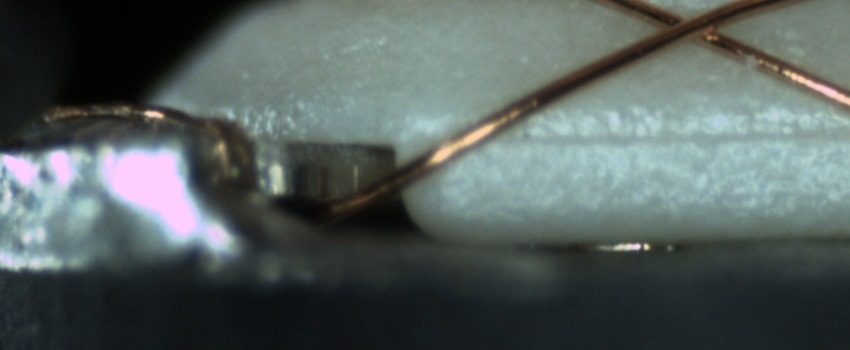CL: (648, 3, 745, 52)
DL: (481, 109, 849, 170)
TE: (38, 95, 259, 199)
